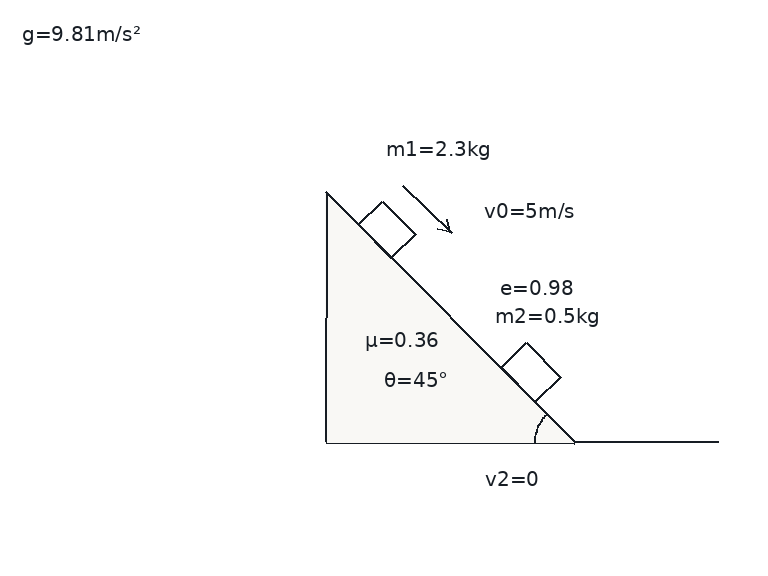block: (498, 340, 562, 404), (356, 199, 417, 260)
ramp: (323, 190, 577, 444)
